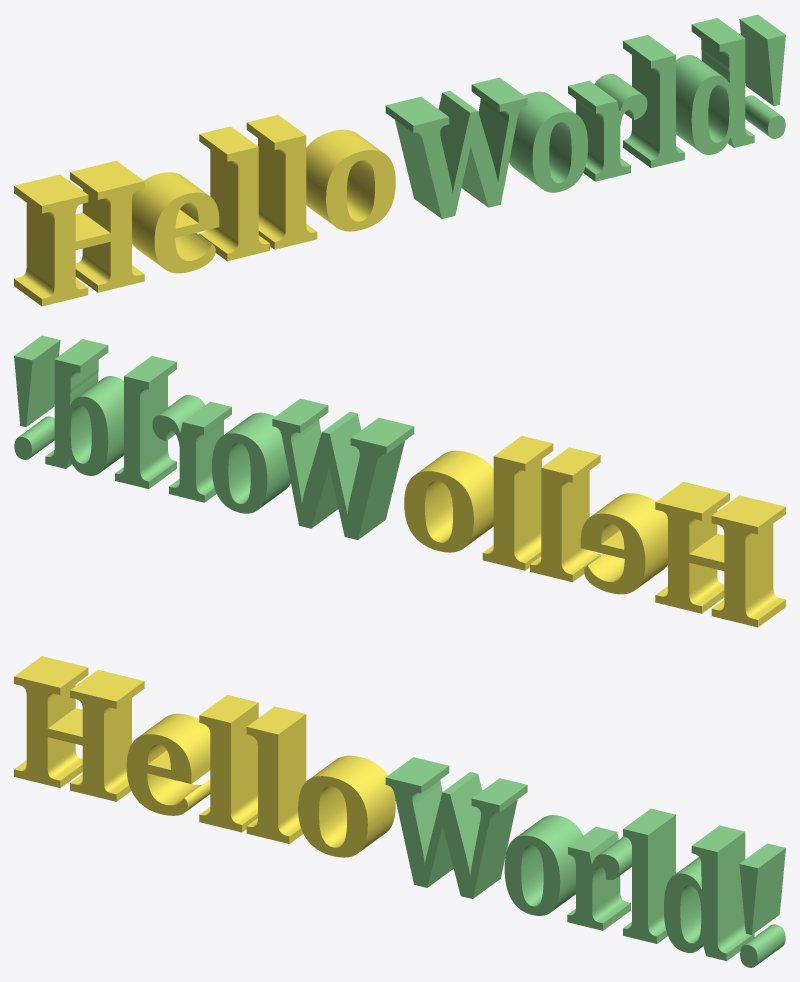
Rendered from hello_world.glb.
3 renders of one model, top to bottom at view 1: azimuth 30°, elevation 25°; view 2: azimuth 150°, elevation 25°; view 3: azimuth 330°, elevation 25°, orthographic.
Parts seen in each view (by area): view 1: Object_3, Object_2; view 2: Object_3, Object_2; view 3: Object_3, Object_2.
Part boxes in pixels (x1=…): Object_3: x1=385, y1=14, x2=785, y2=218; Object_2: x1=14, y1=115, x2=395, y2=306; Object_3: x1=14, y1=335, x2=414, y2=539; Object_2: x1=404, y1=436, x2=785, y2=627; Object_3: x1=385, y1=757, x2=785, y2=967; Object_2: x1=14, y1=656, x2=395, y2=857.
Size of the model in its own units: 154 by 23.41 by 10.
